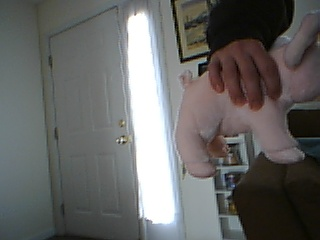piggy: (176, 9, 320, 180)
